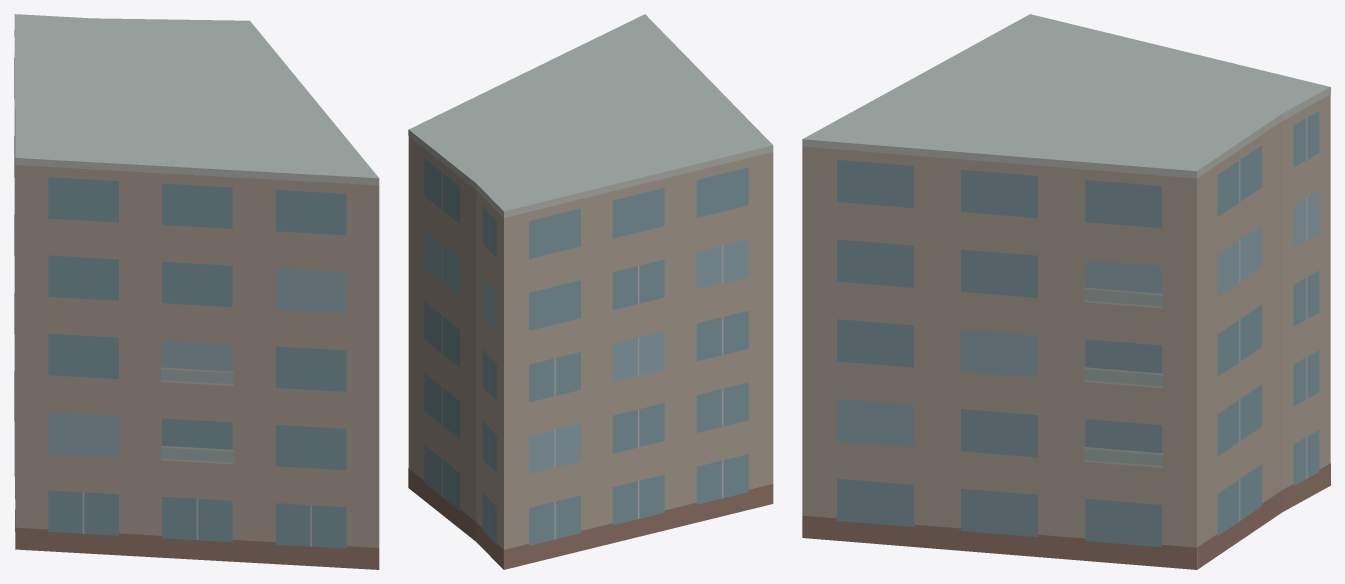
Rendered from survey-upis-32628074.glb.
3 views of the same model, side by side, from view 1: azimuth 30°, elevation 25°; view 2: azimuth 150°, elevation 25°; view 3: azimuth 270°, elevation 25° (orthographic). The views are drawn at different scales.
Visible parts, largest first — view 1: survey-upis-32628074.tmp; view 2: survey-upis-32628074.tmp; view 3: survey-upis-32628074.tmp.
Boxes of the visible parts, x1,y1,x2,y2 form: survey-upis-32628074.tmp: (14,14,379,569); survey-upis-32628074.tmp: (408,14,773,569); survey-upis-32628074.tmp: (802,14,1330,569).
Size of the model in its own units: 11.26 by 13.3 by 15.99.
